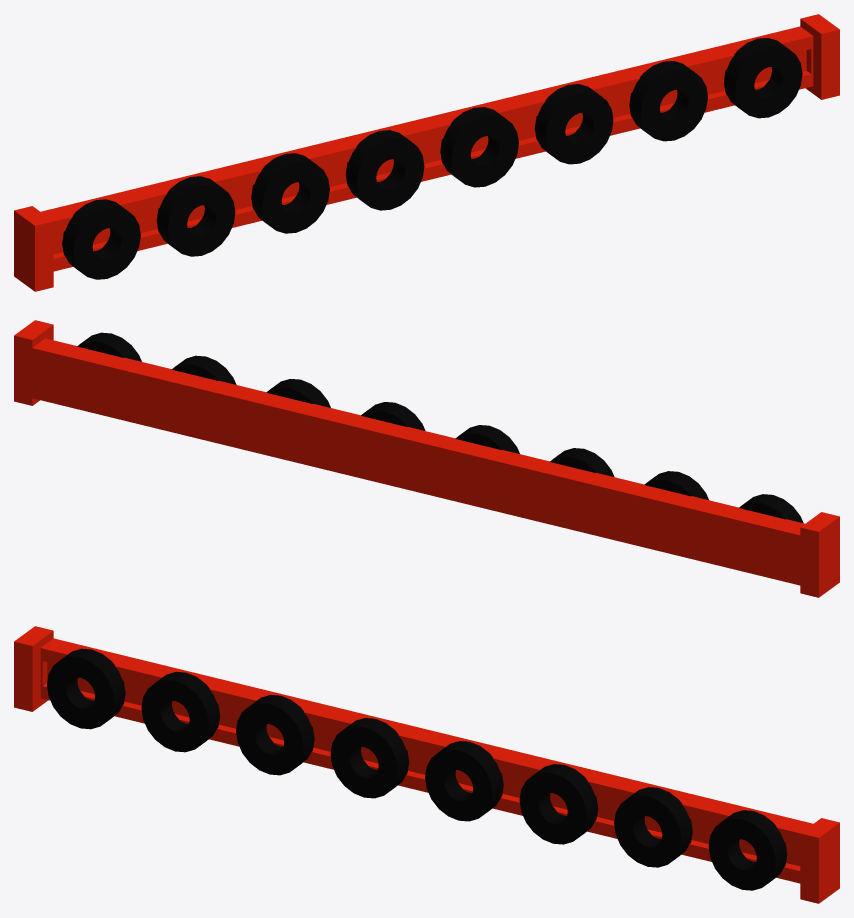
Rendered from Boat beam.fbx.
The picture shows the model from 3 angles, top to bottom: view 1: azimuth 30°, elevation 25°; view 2: azimuth 150°, elevation 25°; view 3: azimuth 330°, elevation 25°; orthographic projection.
Visible parts, largest first — view 1: wheels, beam; view 2: beam, wheels; view 3: wheels, beam.
Boxes of the visible parts, <box> form: wheels: <box>62,38,802,279</box>; beam: <box>14,14,839,291</box>; beam: <box>14,320,839,597</box>; wheels: <box>77,332,803,523</box>; wheels: <box>47,648,787,890</box>; beam: <box>14,626,839,903</box>.
Bounding box in the file's own units: 2051 × 172 × 106.
